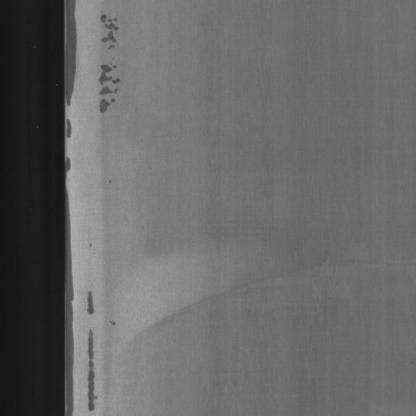oil_spot: (64, 0, 78, 413), (96, 12, 124, 130), (84, 296, 110, 409)
